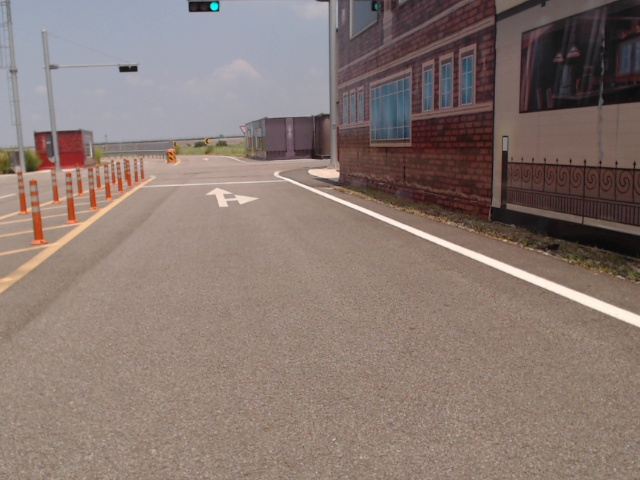green_3: (188, 1, 220, 12)
